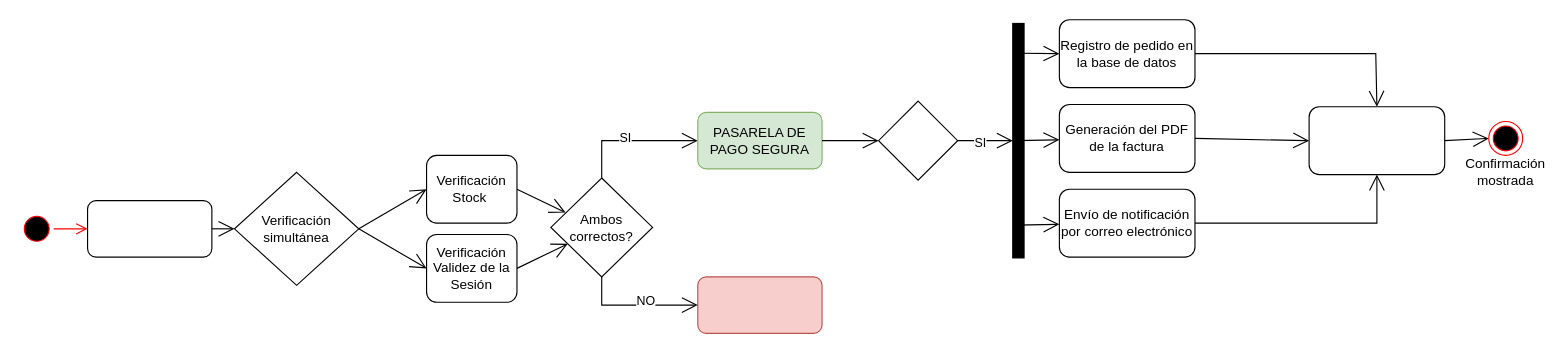
The diagram is 1565 pixels wide and 354 high, and some of its shapes have lost their labels. The centre of each missing label's shape, as x and y in pixels:
ERROR DE VALIDACIÓN: point 759,304
Mostrar mensaje de confirmación al cliente.: point 1376,140
Pago seguro?: point 917,140
Usuario pulsa "Finalizar Compra": point 149,228
